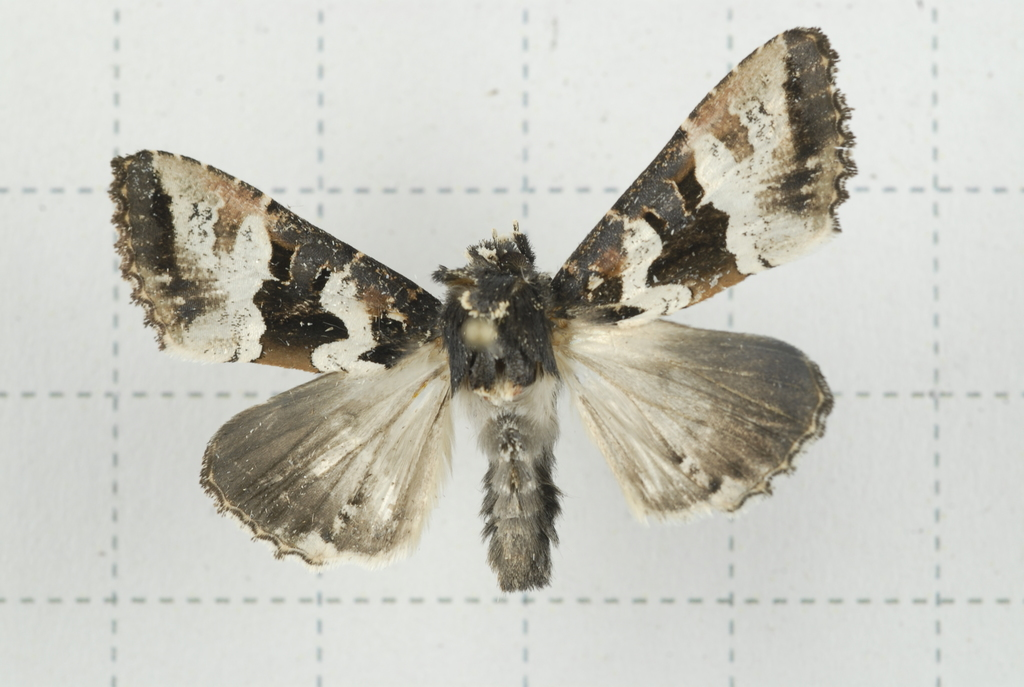Butterfly: (88, 1, 934, 607)
